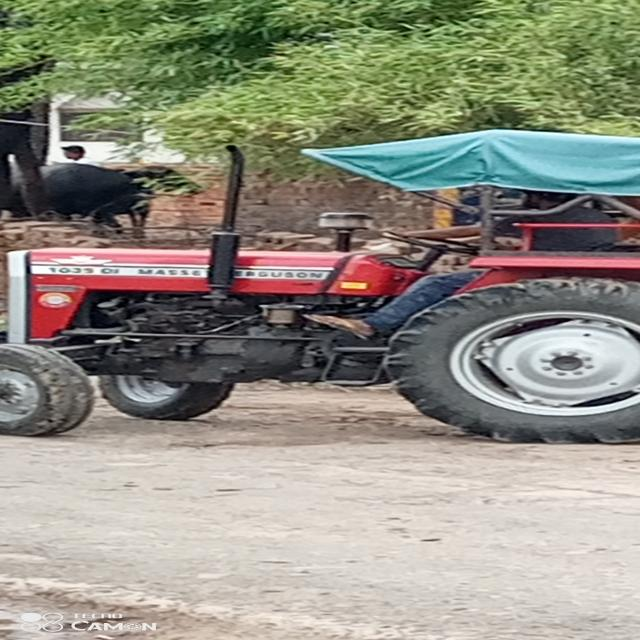Tractor: (1, 106, 640, 477)
